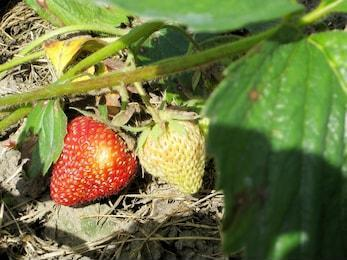Fresa: (45, 109, 141, 212)
